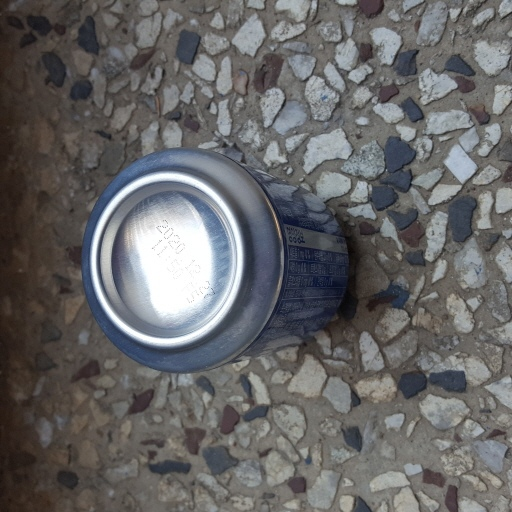Metal_0: (81, 150, 354, 370)
